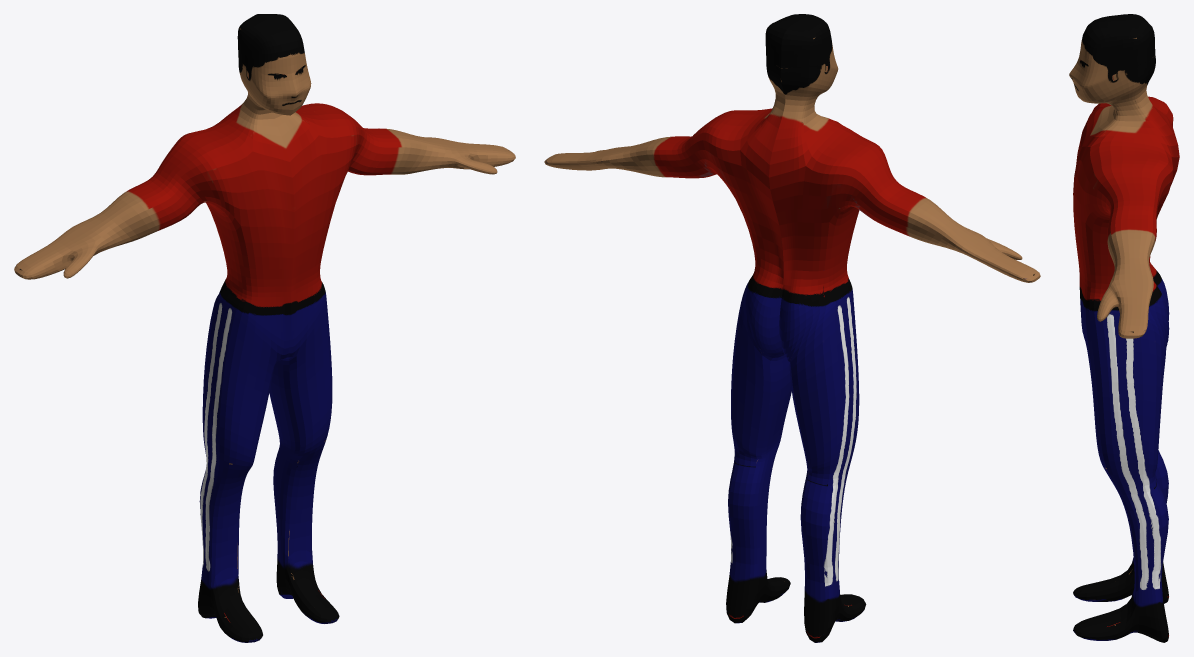
The model's file is playerChar.fbx.
3 views of the same model, side by side, from view 1: azimuth 30°, elevation 25°; view 2: azimuth 150°, elevation 25°; view 3: azimuth 270°, elevation 25° (orthographic).
Visible parts, largest first — view 1: PlayerCharacterModel; view 2: PlayerCharacterModel; view 3: PlayerCharacterModel.
Boxes of the visible parts, x1,y1,x2,y2 form: PlayerCharacterModel: (14,14,515,642); PlayerCharacterModel: (544,14,1040,642); PlayerCharacterModel: (1069,14,1179,642).
Bounding box in the file's own units: 173 × 202 × 33.58.
